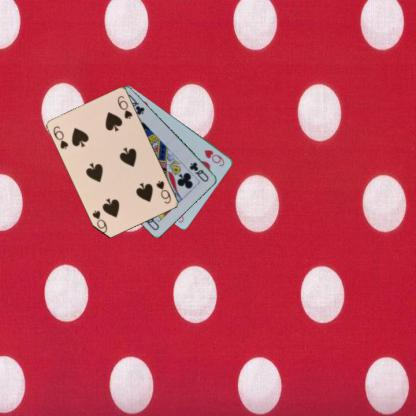6h: (202, 146, 226, 168)
6s: (51, 124, 70, 150), (154, 178, 172, 205)
Qc: (188, 160, 210, 183)
